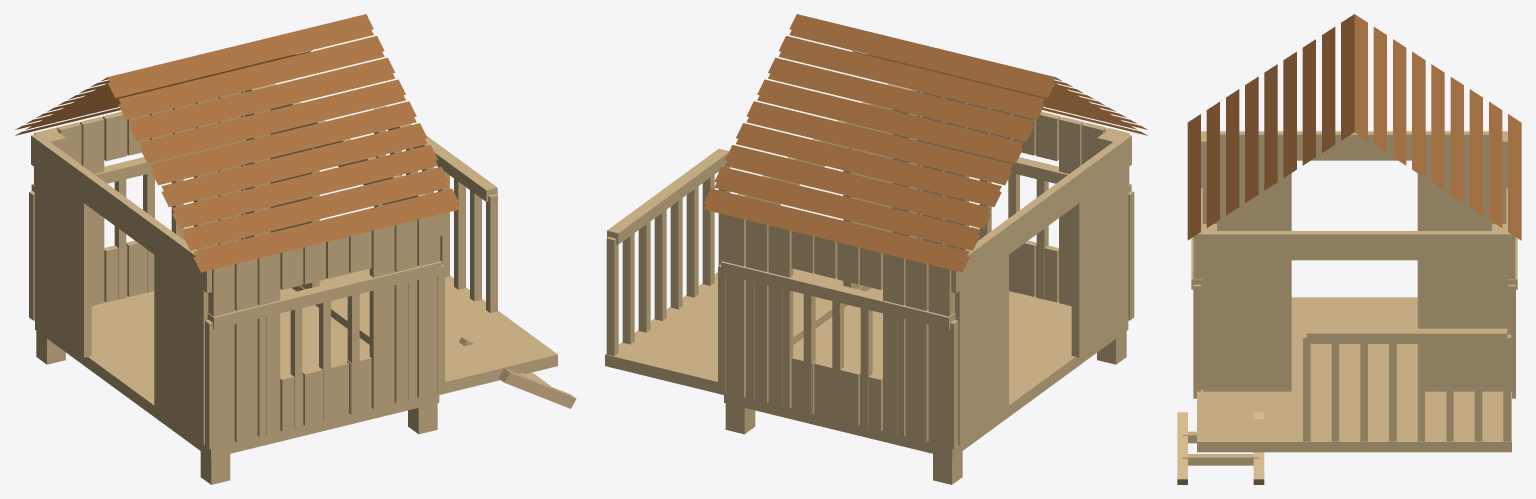
3 views of the same model, side by side, from view 1: azimuth 30°, elevation 25°; view 2: azimuth 150°, elevation 25°; view 3: azimuth 270°, elevation 25° (orthographic). The views are drawn at different scales.
Visible parts, largest first — view 1: SW-Y305; view 2: SW-Y305; view 3: SW-Y305.
Boxes of the visible parts, <box> form: SW-Y305: <box>15,14,576,484</box>; SW-Y305: <box>605,14,1147,484</box>; SW-Y305: <box>1177,14,1521,484</box>.
Bounding box in the file's own units: 2 × 1.8 × 1.8.
